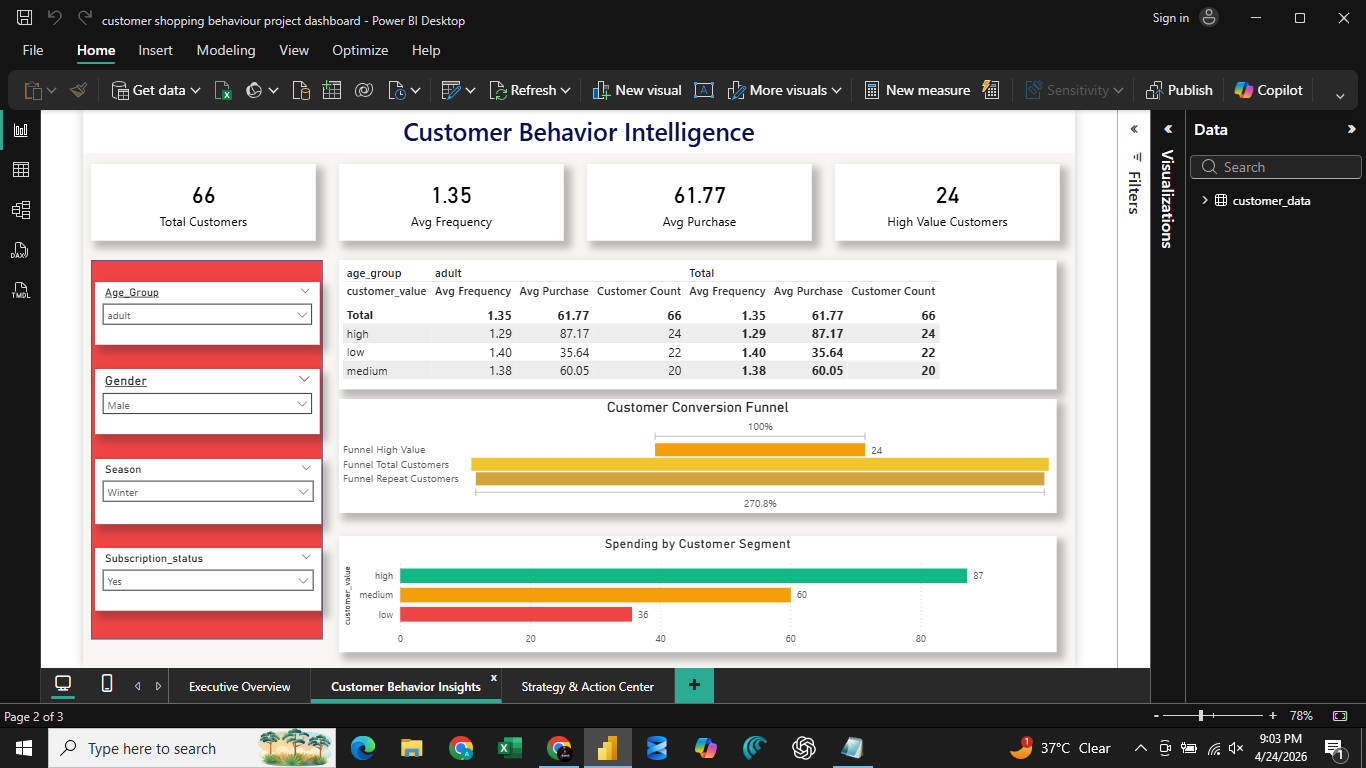

The dashboard page shown, as its layout file describes it:
{"tool":"powerbi","page":{"name":"Customer Behavior Insights","canvas":[1280,720],"ordinal":1},"visuals":[{"type":"shape","box":[10.6,193.1,299.5,489.5],"z":0},{"type":"card","fields":{"Values":["customer_data.Total Customers"]},"box":[10.6,69.9,290.4,98.8],"z":1000},{"type":"card","fields":{"Values":["customer_data.Avg Frequency"]},"box":[330.4,69.9,290.4,98.8],"z":2000},{"type":"card","fields":{"Values":["customer_data.Avg Purchase"]},"box":[650.1,69.9,290.4,98.8],"z":3000},{"type":"card","fields":{"Values":["customer_data.High Value Customers"]},"box":[969.9,69.9,290.4,98.8],"z":4000},{"type":"textbox","box":[0,0,1279.5,54.9],"z":5000},{"type":"pivotTable","fields":{"Rows":["customer_data.customer_value"],"Columns":["customer_data.age_group"],"Values":["customer_data.Avg Frequency","customer_data.Avg Purchase","customer_data.Customer Count"]},"box":[329.9,193.1,925.8,167.2],"z":6000},{"type":"funnel","title":"Customer Conversion Funnel","fields":{"Y":["customer_data.Funnel High Value","customer_data.Funnel Total Customers","customer_data.Funnel Repeat Customers"]},"box":[329.9,372.4,925.8,147.5],"z":7000},{"type":"clusteredBarChart","title":"Spending by Customer Segment","fields":{"Category":["customer_data.customer_value"],"Y":["customer_data.Avg Purchase"]},"box":[329.9,550.3,925.8,150.5],"z":8000},{"type":"slicer","fields":{"Values":["customer_data.gender"]},"box":[15.2,334.4,290.4,83.6],"z":9000},{"type":"slicer","fields":{"Values":["customer_data.age_group"]},"box":[15.2,221.9,290.4,80.6],"z":10000},{"type":"slicer","fields":{"Values":["customer_data.season"]},"box":[15.2,450,291.9,83.6],"z":11000},{"type":"slicer","fields":{"Values":["customer_data.subscription_status"]},"box":[15.2,565.5,291.9,80.6],"z":12000}]}

Visuals, with their boxes on the page's 1280x720 design canvas (x1, y1, x2, y2). These are canvas units, not pixel positions in the 1366x768 screenshot, which may show the page scaled, cropped or inside an application window:
shape: pyautogui.locateOnScreen(11, 193, 310, 683)
card - customer_data.Total Customers: pyautogui.locateOnScreen(11, 70, 301, 169)
card - customer_data.Avg Frequency: pyautogui.locateOnScreen(330, 70, 621, 169)
card - customer_data.Avg Purchase: pyautogui.locateOnScreen(650, 70, 940, 169)
card - customer_data.High Value Customers: pyautogui.locateOnScreen(970, 70, 1260, 169)
textbox: pyautogui.locateOnScreen(0, 0, 1280, 55)
pivotTable - customer_data.customer_value x customer_data.age_group: pyautogui.locateOnScreen(330, 193, 1256, 360)
"Customer Conversion Funnel" funnel: pyautogui.locateOnScreen(330, 372, 1256, 520)
"Spending by Customer Segment" clusteredBarChart: pyautogui.locateOnScreen(330, 550, 1256, 701)
slicer - customer_data.gender: pyautogui.locateOnScreen(15, 334, 306, 418)
slicer - customer_data.age_group: pyautogui.locateOnScreen(15, 222, 306, 302)
slicer - customer_data.season: pyautogui.locateOnScreen(15, 450, 307, 534)
slicer - customer_data.subscription_status: pyautogui.locateOnScreen(15, 566, 307, 646)
